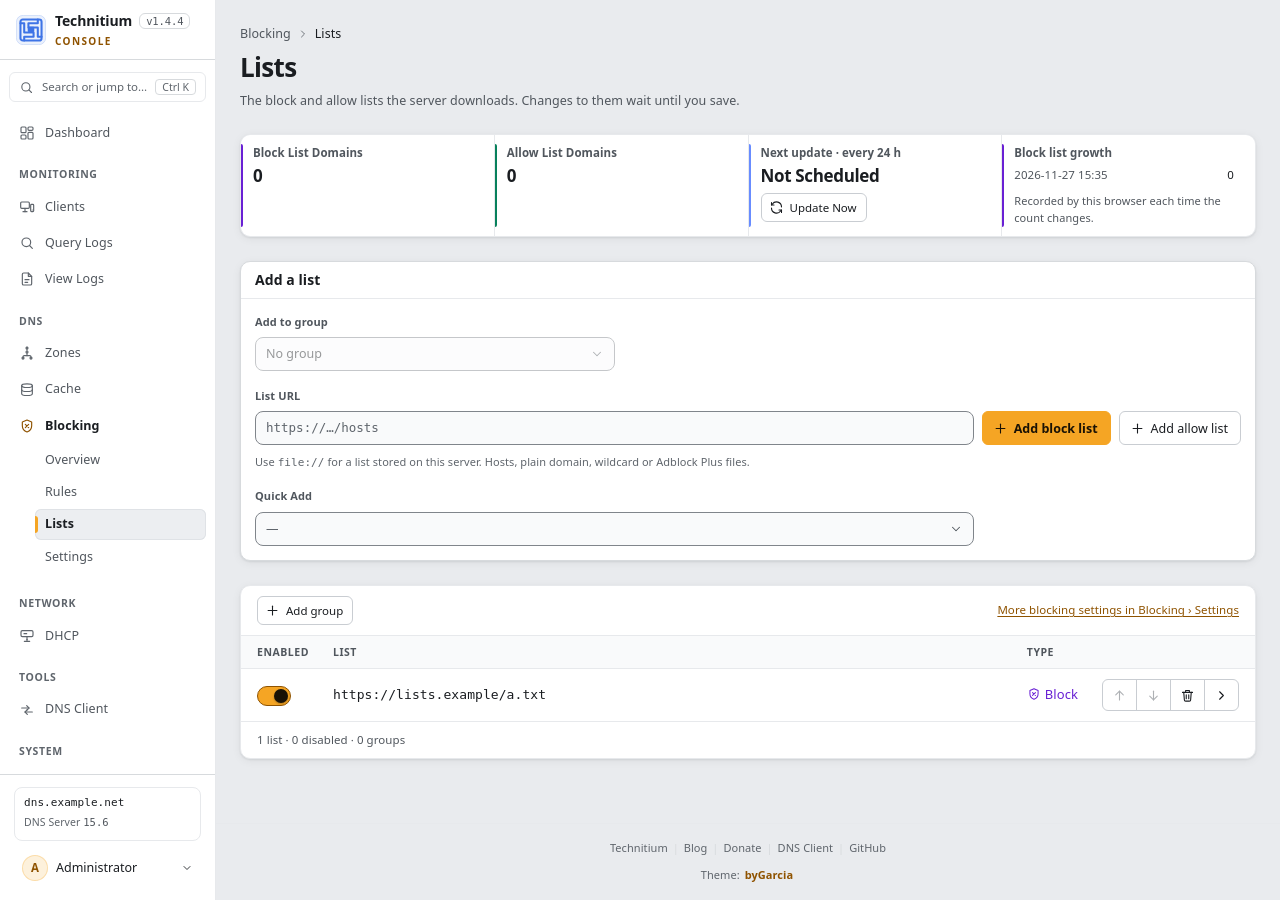
Test case: Shell: leaving a form with unsaved changes › Blocking › Lists: leaving for another tab asks
Click the button named "Remove https://lists.example/a.txt".
click(1188, 695)  # box x1=1171 y1=680 x2=1204 y2=710
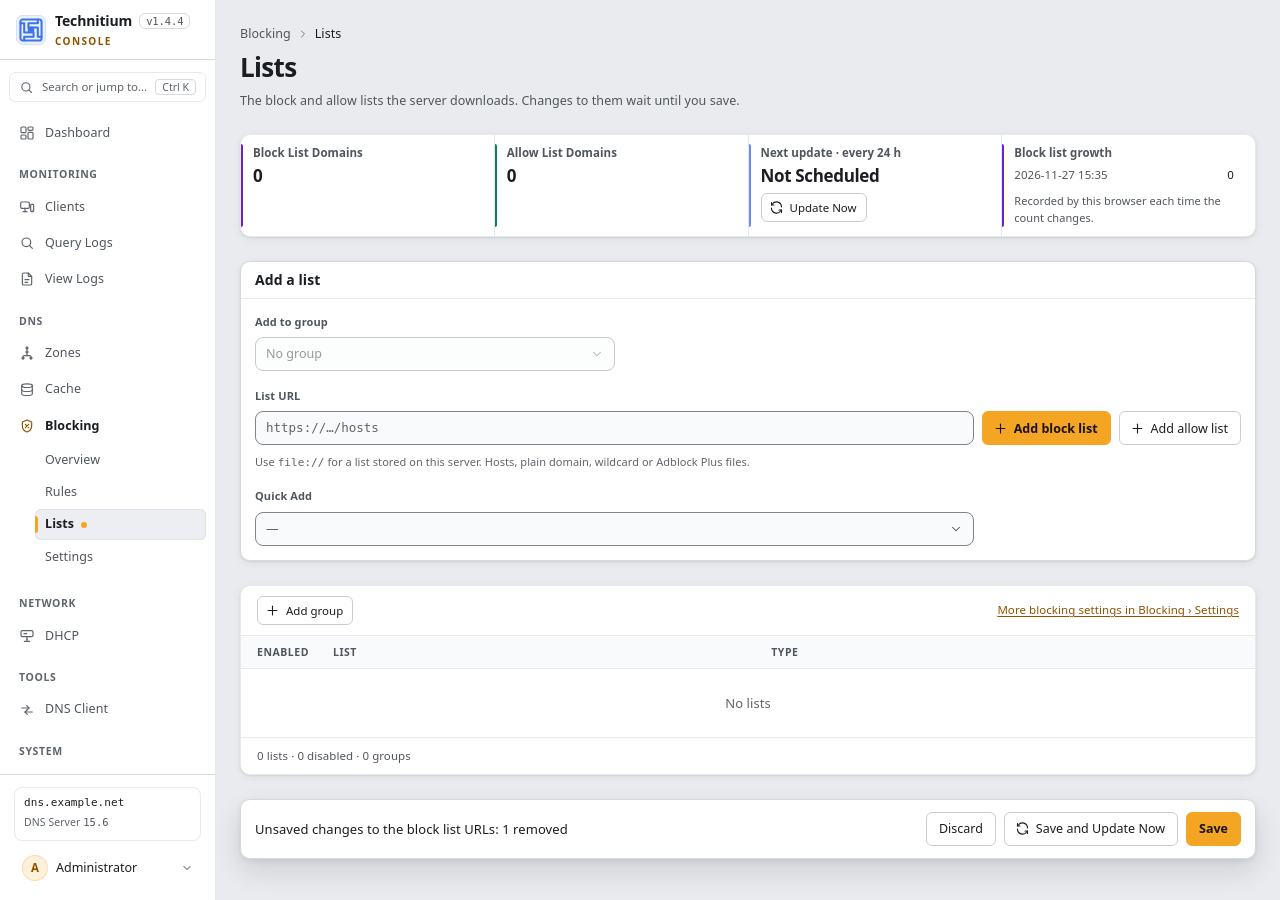
Check: the text "Unsaved changes to the block list URLs: 1 removed" is shown, box x1=255 y1=819 x2=568 y2=839
Click the link "Overview".
click(72, 459)  # box x1=45 y1=451 x2=100 y2=468
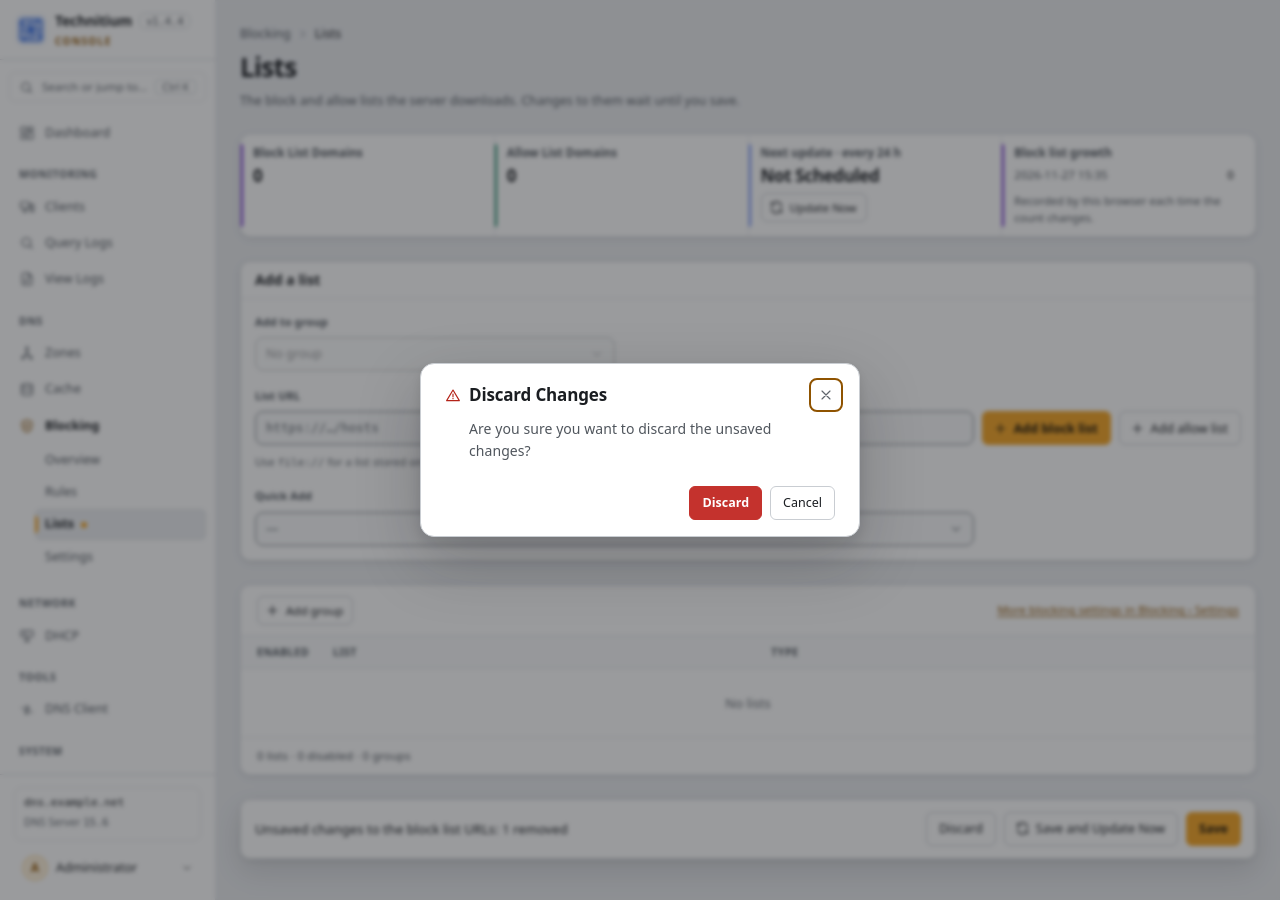
Check: the dialog named "Discard Changes" is shown, box x1=420 y1=363 x2=860 y2=537
